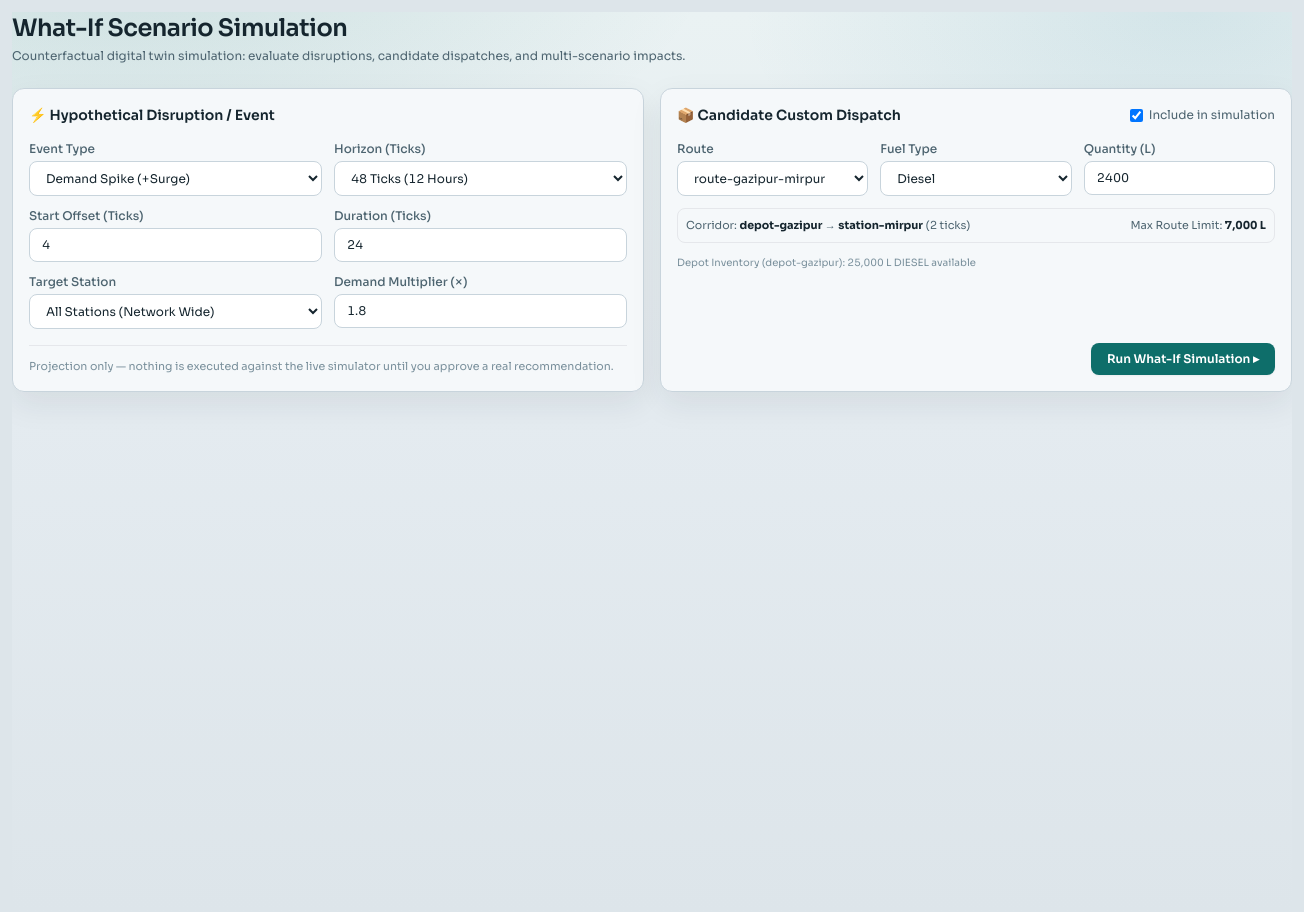
Test case: What-If Scenario Simulation Page › executes what-if simulation and displays three scenario comparison cards
Click the button "Run What-If Simulation ▸".
click(1183, 358)  # box left=1091, top=342, right=1275, bottom=374
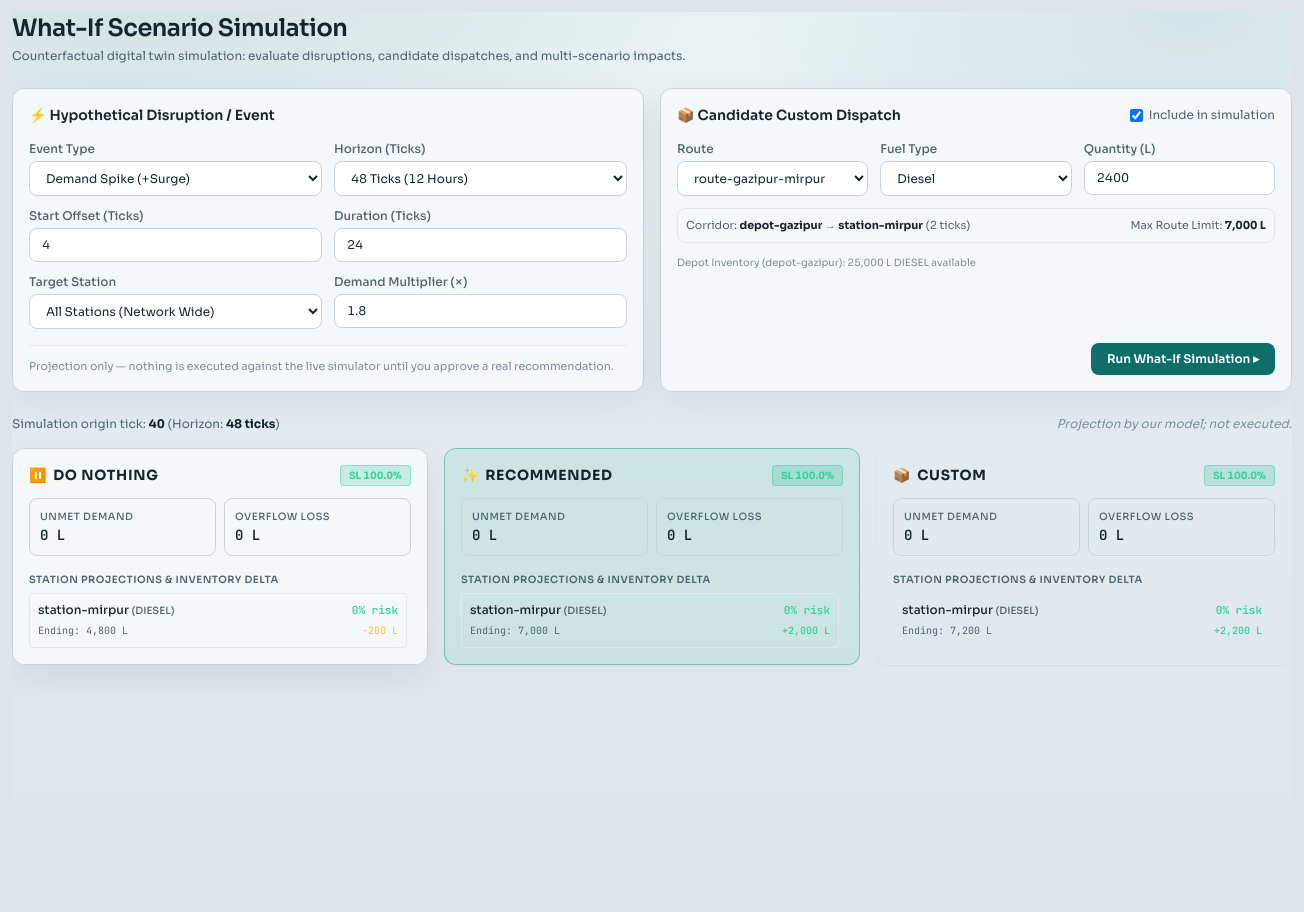
Expected: the heading "⏸️ do nothing" is shown, left=29, top=465, right=159, bottom=485
Expected: the heading "✨ recommended" is shown, left=461, top=465, right=613, bottom=485
Expected: the heading "📦 custom" is shown, left=893, top=465, right=986, bottom=485
